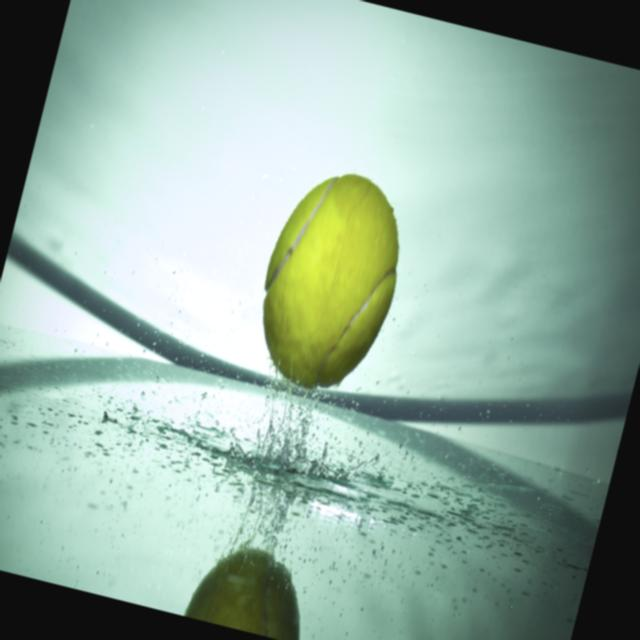Tennis ball: (240, 155, 419, 403), (185, 536, 318, 640)
